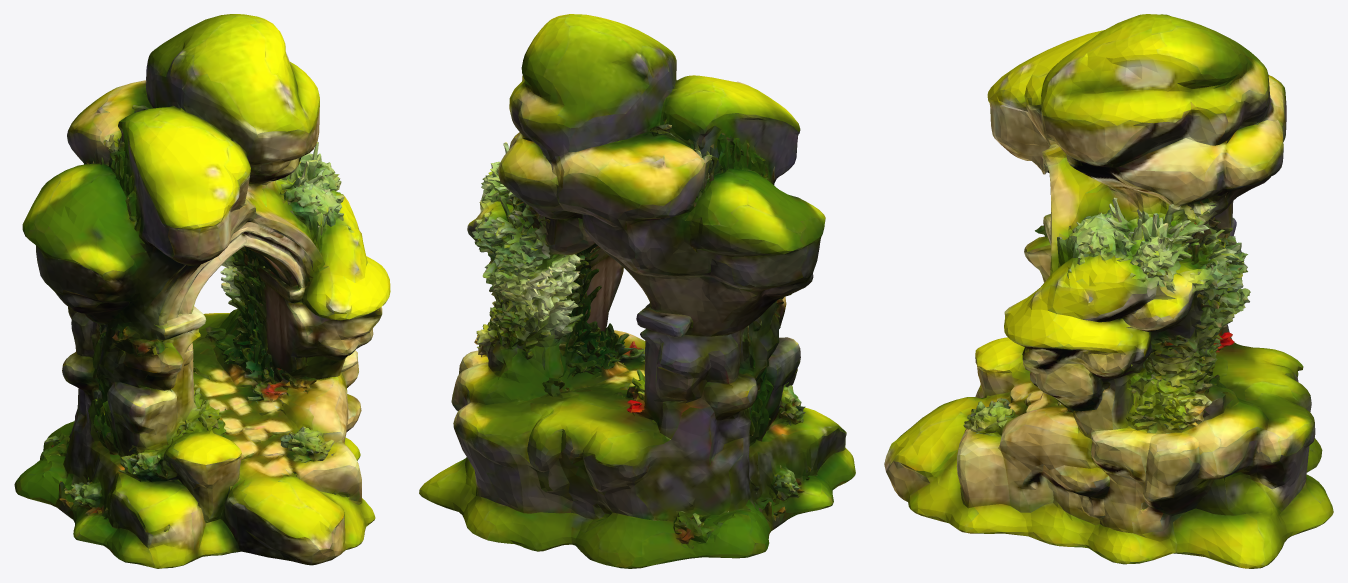
The model's file is nature_rock_cluster_02.glb.
3 renders of one model, left to right at view 1: azimuth 30°, elevation 25°; view 2: azimuth 150°, elevation 25°; view 3: azimuth 270°, elevation 25°, orthographic. The views are drawn at different scales.
Visible parts, largest first — view 1: geometry_0; view 2: geometry_0; view 3: geometry_0.
Boxes of the visible parts, x1=… form: geometry_0: x1=14, y1=14, x2=390, y2=568; geometry_0: x1=419, y1=14, x2=855, y2=568; geometry_0: x1=884, y1=14, x2=1333, y2=568.
Bounding box in the file's own units: 0.762 × 1 × 0.8376.
1 material, 1 textured.
